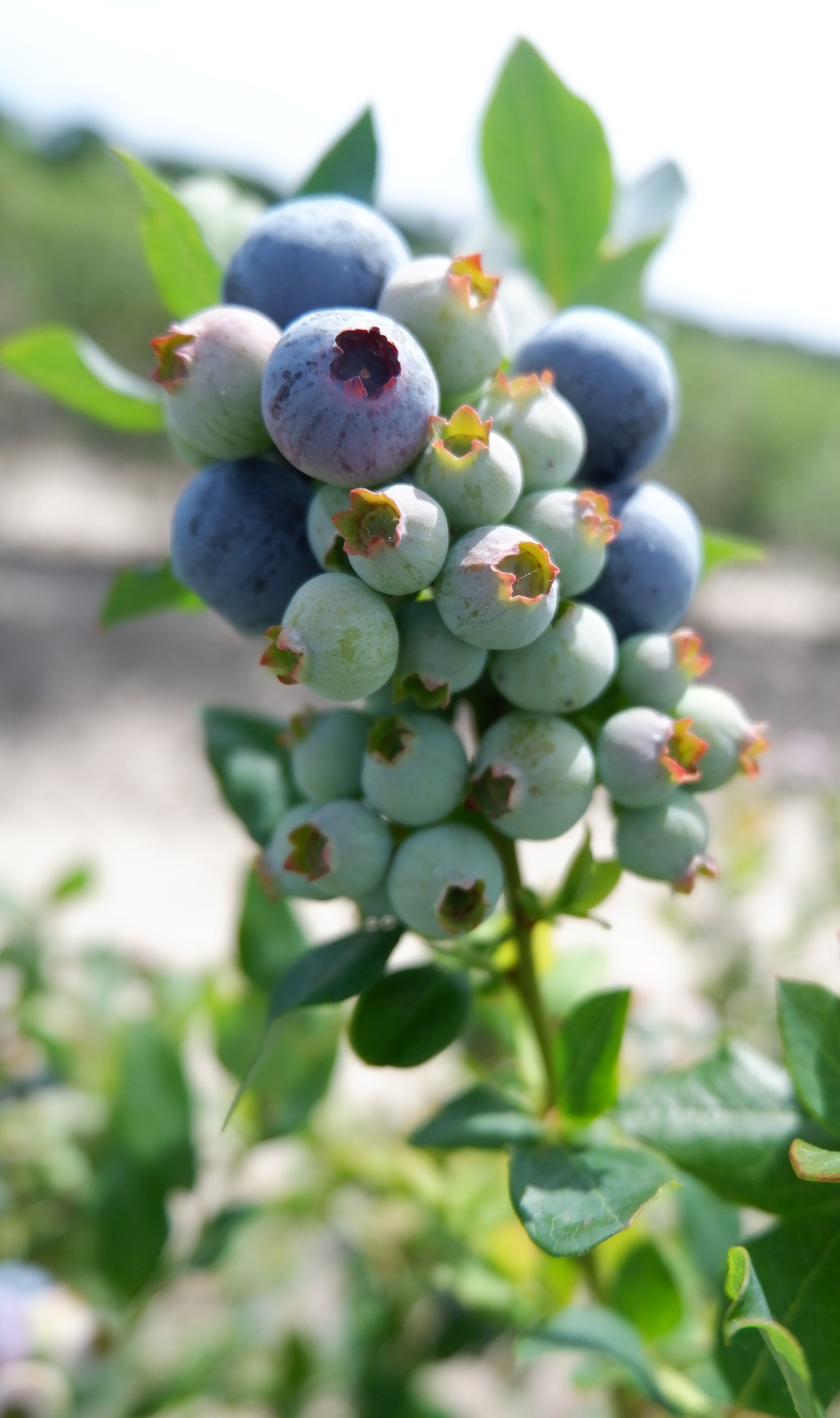Immature: (380, 256, 502, 401), (156, 308, 275, 454), (266, 575, 397, 699), (472, 714, 594, 840), (434, 528, 557, 647), (493, 601, 614, 712), (260, 803, 391, 900), (391, 825, 501, 938), (416, 408, 521, 524), (339, 485, 447, 592), (363, 715, 466, 822), (487, 376, 582, 489), (511, 490, 614, 593), (599, 710, 700, 806), (397, 603, 486, 705), (678, 689, 766, 791), (616, 794, 709, 889), (282, 710, 374, 800), (619, 632, 707, 709), (311, 485, 353, 571)
Mature: (264, 308, 435, 481), (515, 309, 672, 485), (173, 456, 315, 632), (225, 196, 404, 328), (582, 483, 699, 643)
